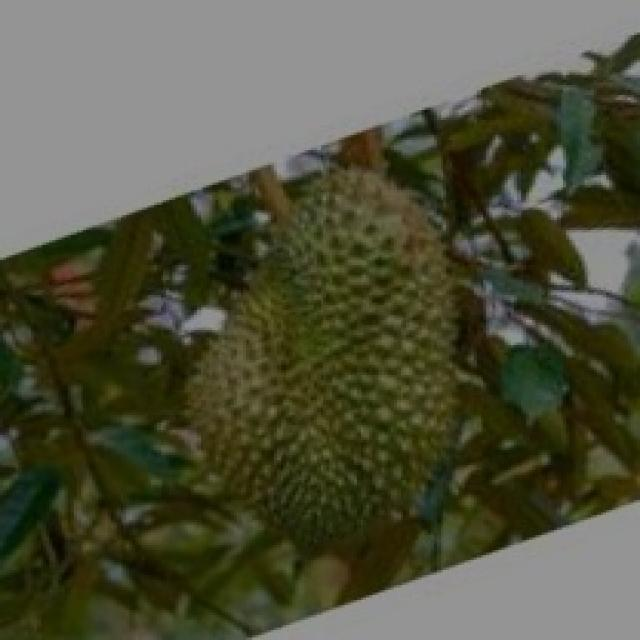fruit: (129, 188, 526, 620)
